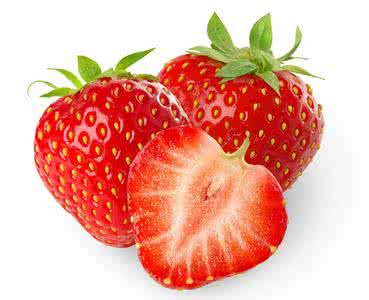strawberry: (27, 52, 189, 250), (160, 20, 338, 185), (131, 117, 291, 284)
